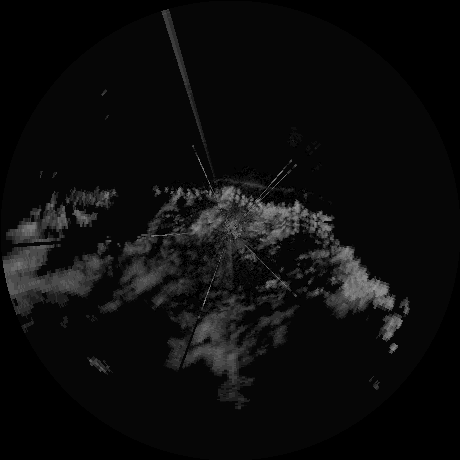frontgust: (211, 172, 297, 195)
